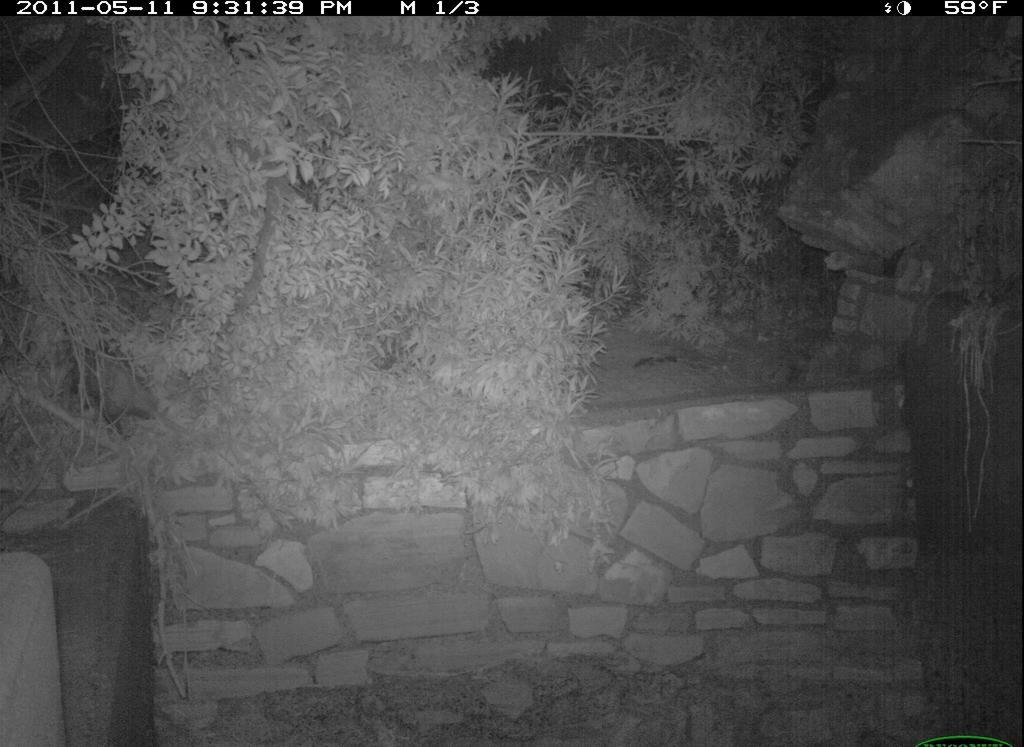opossum: (61, 332, 207, 449)
